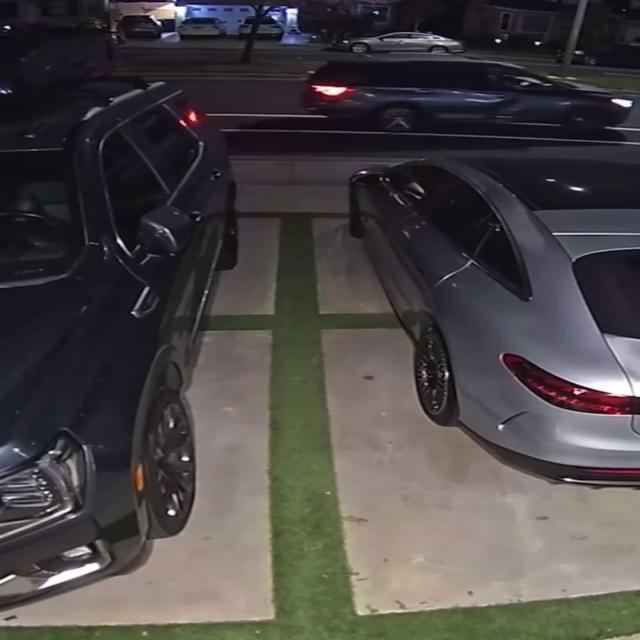Theft - Alert: (349, 152, 639, 490), (300, 55, 634, 132)
